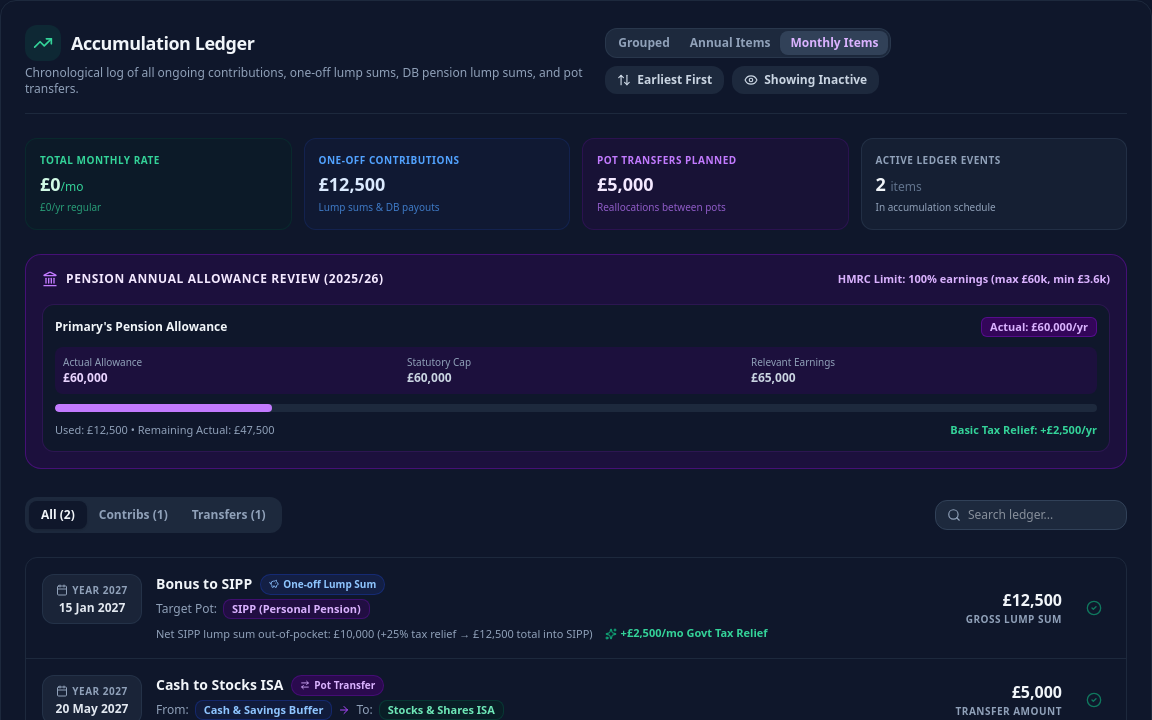
Test case: AccumulationLedgerCard Component › filters by category tabs (All, Contribs, Transfers)
Click Transfers
Step 1. Click the button "Transfers (1)" → [229, 515], box x1=180 y1=501 x2=278 y2=529
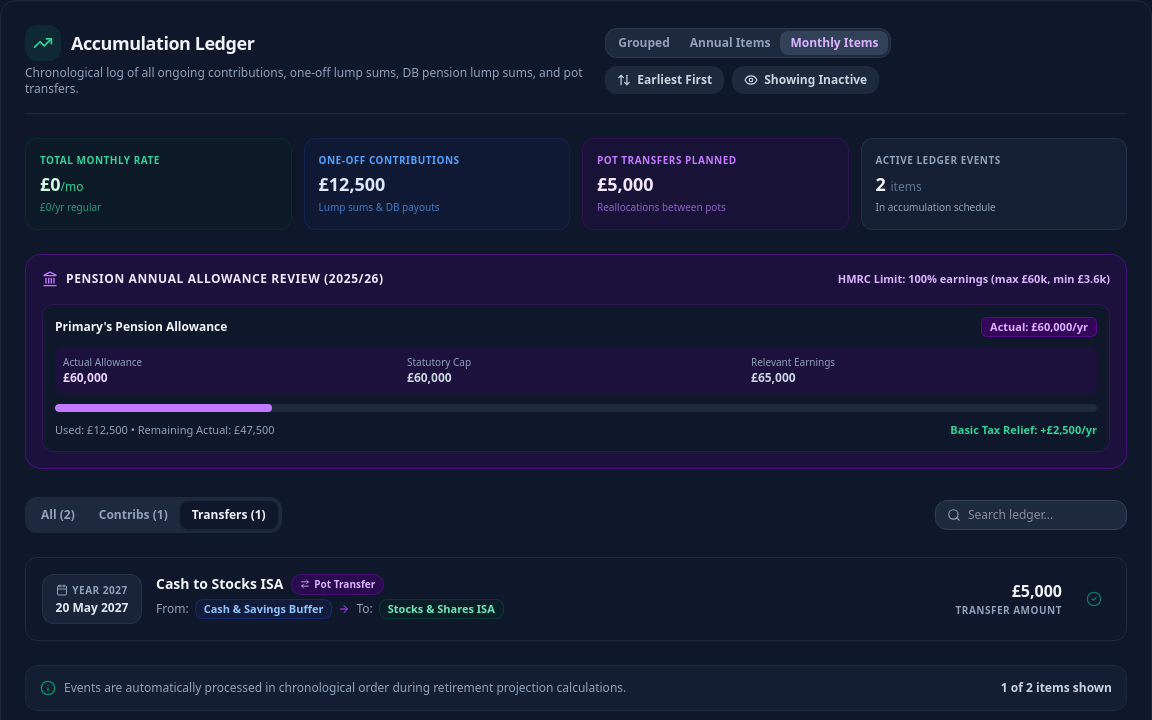
Check: the text "Cash to Stocks ISA" is shown, box x1=156 y1=574 x2=283 y2=594
Check: the text "Bonus to SIPP" is gone
Click Contribs
Step 2. Click the button "Contribs (1)" → [133, 515], box x1=87 y1=501 x2=180 y2=529
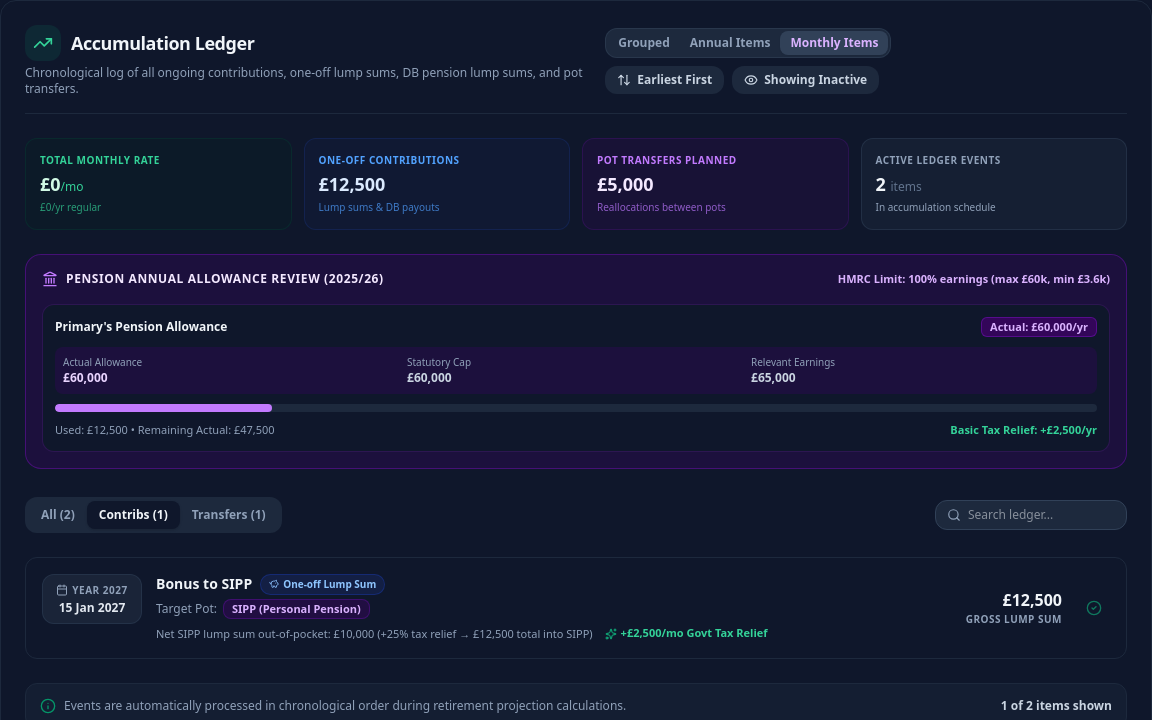
Check: the text "Bonus to SIPP" is shown, box x1=156 y1=574 x2=252 y2=594
Check: the text "Cash to Stocks ISA" is gone
Click All
Step 3. Click the button "All (2)" → [58, 515], box x1=29 y1=501 x2=87 y2=529
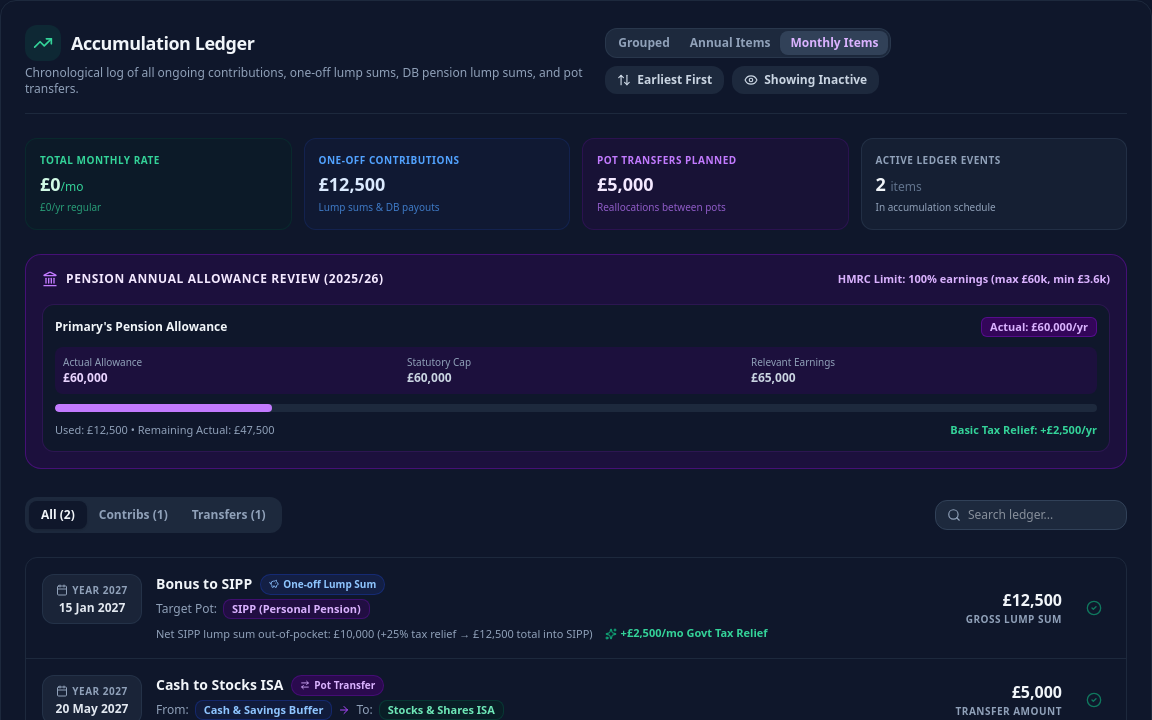
Check: the text "Bonus to SIPP" is shown, box x1=156 y1=574 x2=252 y2=594
Check: the text "Cash to Stocks ISA" is shown, box x1=156 y1=675 x2=283 y2=695
